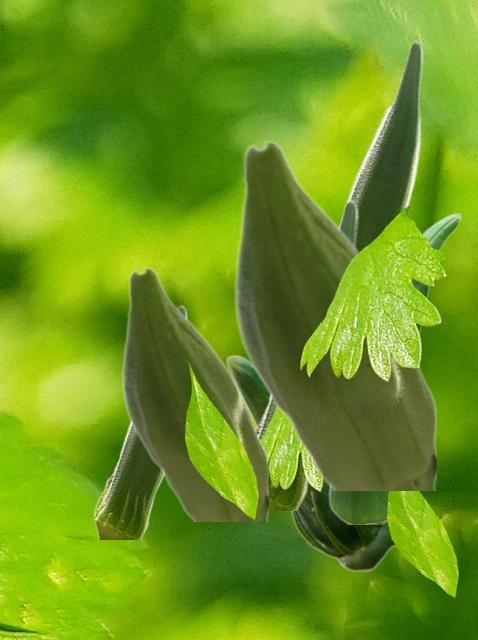okra: (233, 139, 435, 489), (327, 212, 461, 523), (121, 266, 267, 520), (225, 354, 395, 571), (256, 198, 357, 509), (93, 304, 186, 538), (339, 39, 422, 249)
